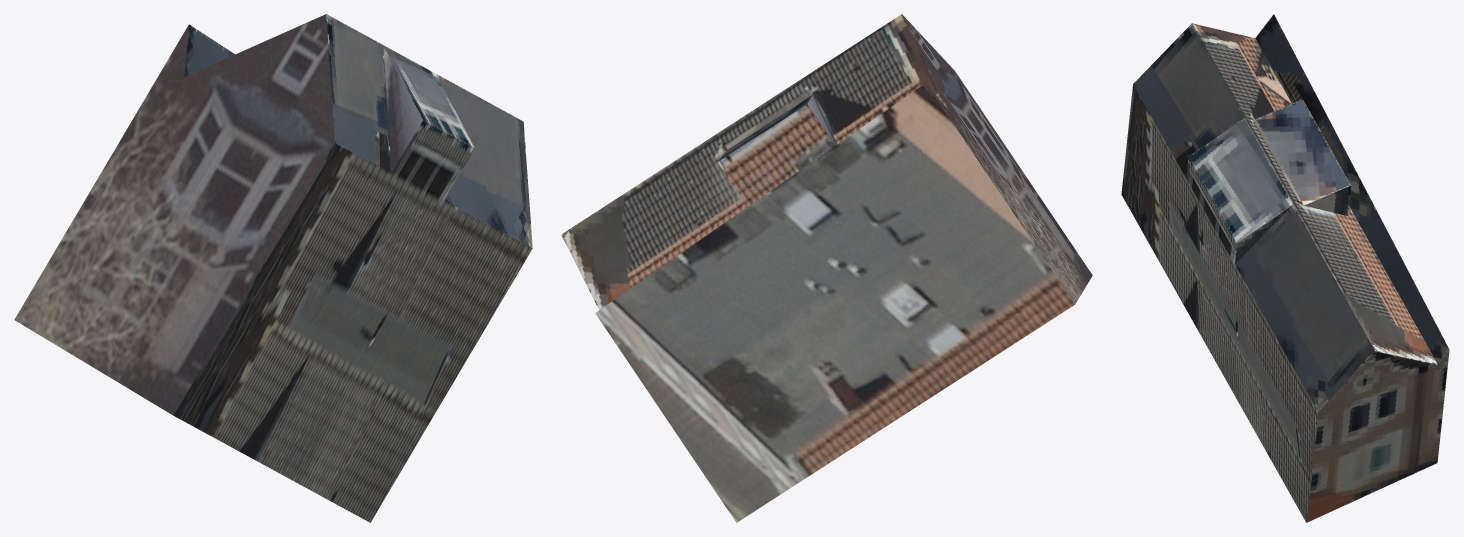
3 renders of one model, left to right at view 1: azimuth 30°, elevation 25°; view 2: azimuth 150°, elevation 25°; view 3: azimuth 270°, elevation 25°, orthographic. The views are drawn at different scales.
Visible parts, largest first — view 1: BAG_0599100000656924 (×3); view 2: BAG_0599100000656924 (×2); view 3: BAG_0599100000656924 (×4).
Part boxes in pixels (x1=…): BAG_0599100000656924 (×3): x1=14, y1=14, x2=532, y2=522; BAG_0599100000656924 (×2): x1=561, y1=14, x2=1092, y2=522; BAG_0599100000656924 (×4): x1=1121, y1=14, x2=1449, y2=522.
Size of the model in its own units: 15.82 by 15.34 by 10.02.
Materials: 1 (1 with a texture image).
